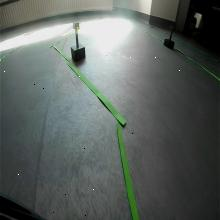green: (73, 21, 80, 30)
